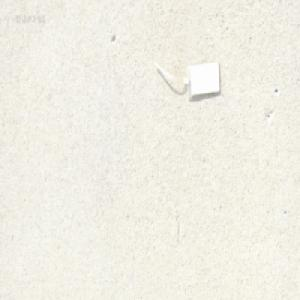LuggageTag: (151, 58, 222, 99)
